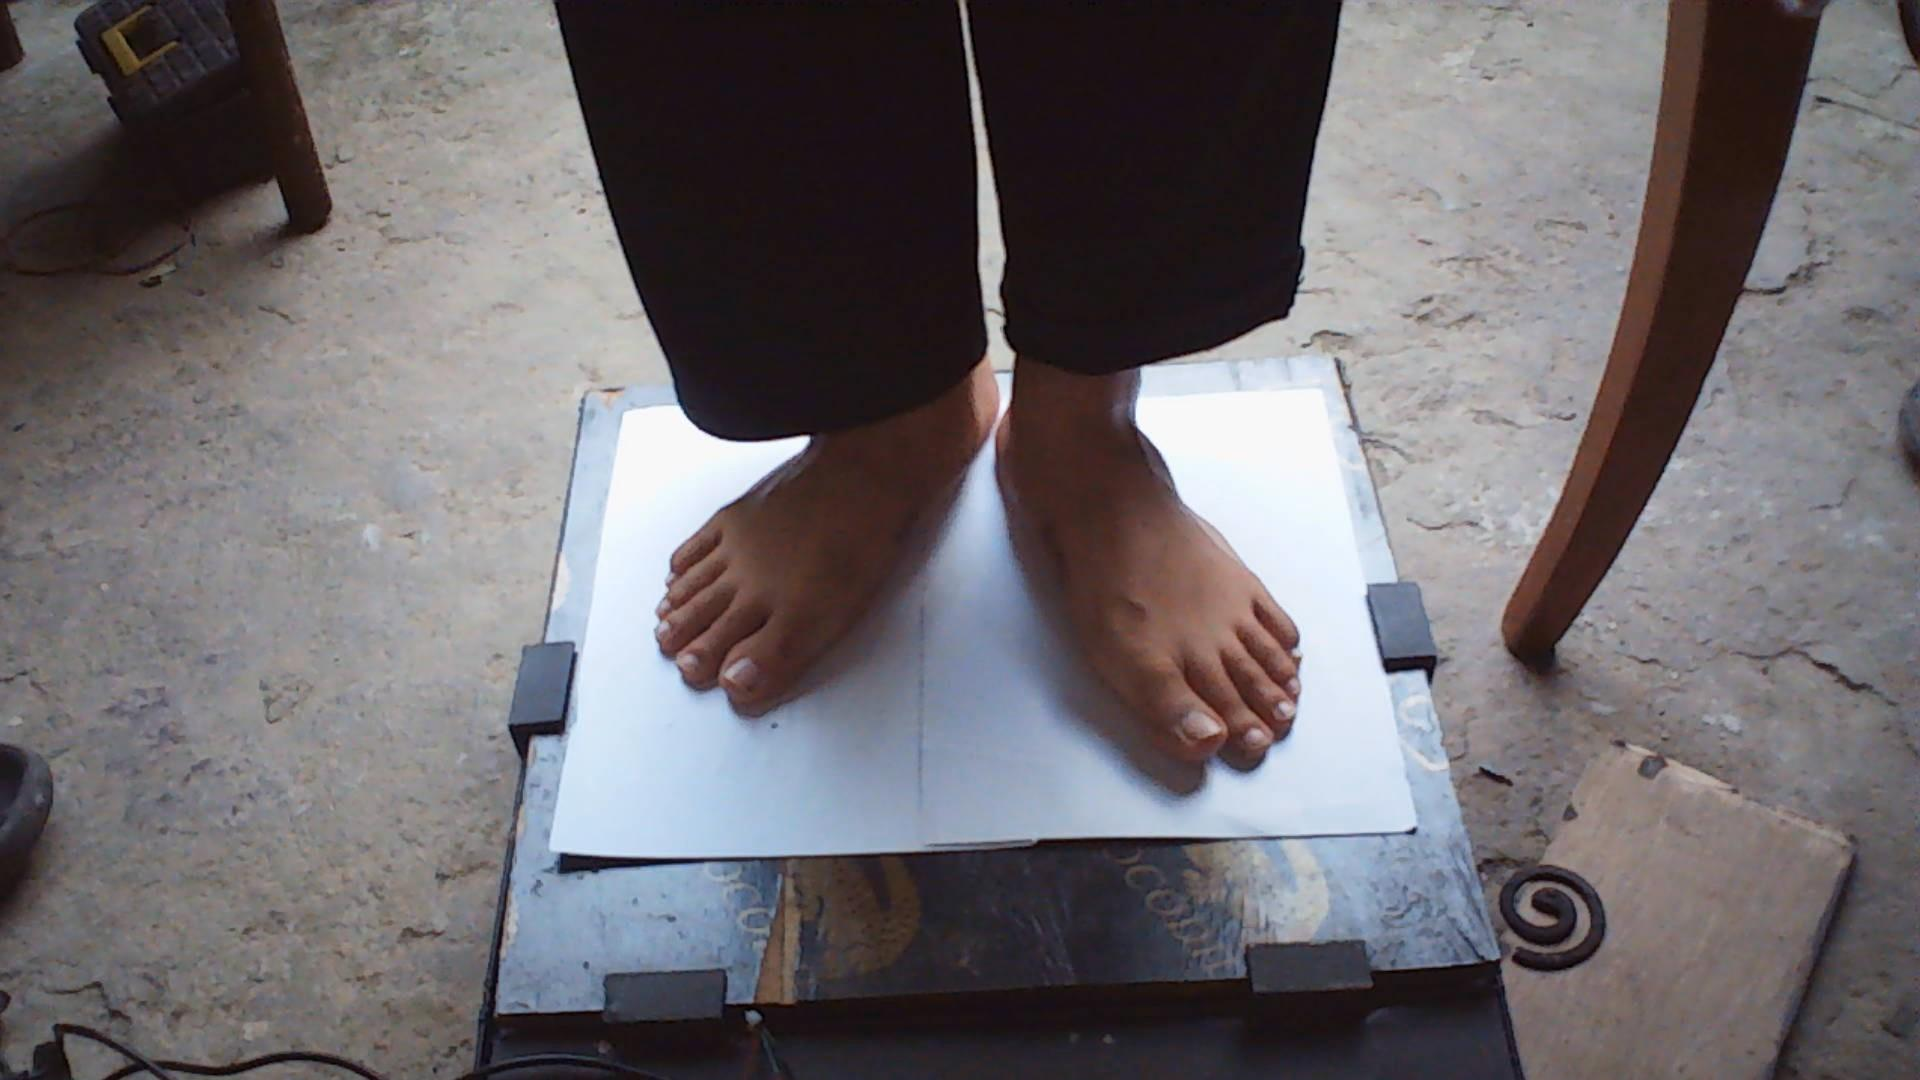Bare_feet: (647, 438, 1362, 795)
